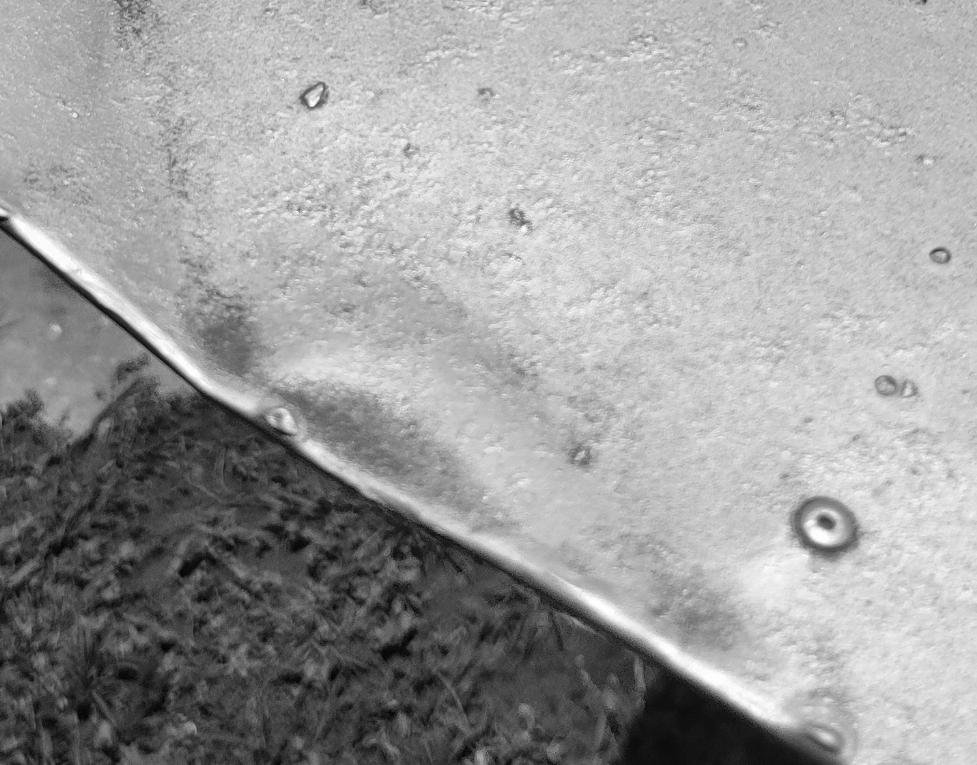dent: (1, 1, 977, 765)
